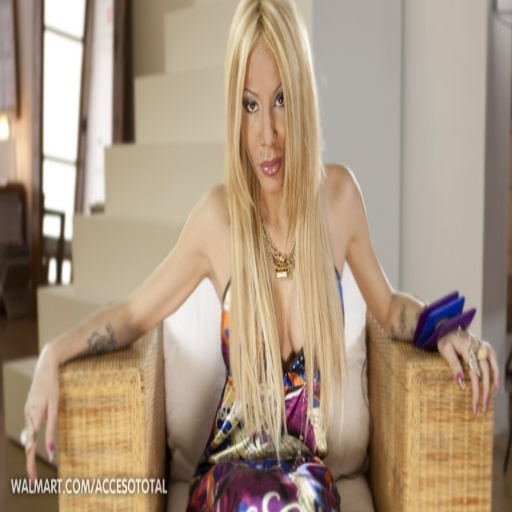hand: (22, 341, 60, 493), (443, 317, 499, 405)
